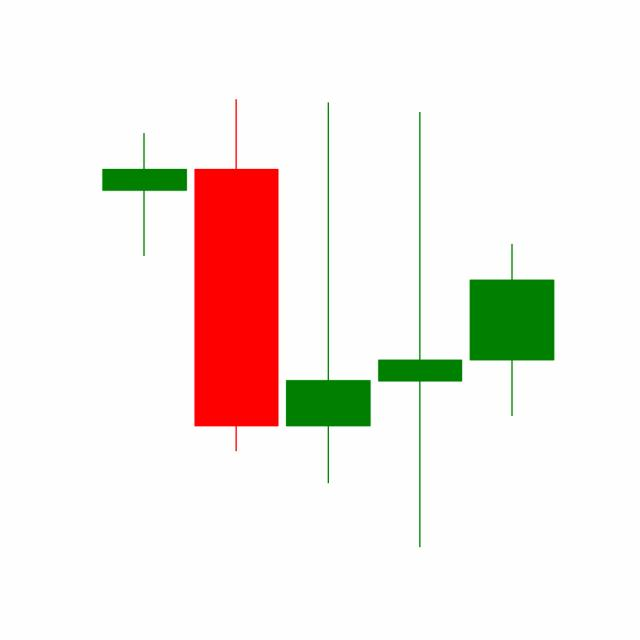Spinning Top: (373, 107, 467, 552)
